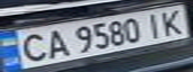0: (121, 16, 145, 44)
5: (90, 20, 112, 51)
8: (106, 18, 127, 47)
9: (69, 22, 97, 54)
A: (39, 27, 72, 60)
C: (12, 30, 51, 63)
I: (139, 10, 169, 39)
K: (154, 7, 190, 36)
